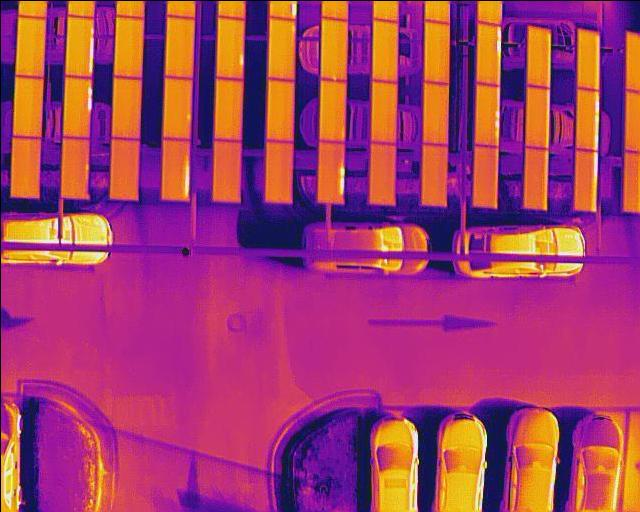Cell: (214, 17, 242, 80)
No-Anomaly: (210, 140, 240, 202), (10, 136, 40, 197), (265, 78, 294, 141), (108, 139, 138, 199), (111, 76, 140, 138), (113, 15, 142, 77), (264, 140, 292, 202), (214, 78, 242, 140), (163, 77, 191, 139), (59, 138, 88, 197), (12, 76, 41, 135), (163, 16, 191, 77), (267, 17, 294, 80), (318, 78, 344, 143), (367, 143, 394, 205), (16, 15, 44, 74), (420, 143, 447, 204), (370, 80, 396, 143), (319, 17, 345, 80), (524, 84, 548, 151), (371, 18, 396, 82), (422, 82, 448, 143), (423, 22, 449, 83), (522, 146, 547, 209), (471, 145, 495, 208), (576, 29, 598, 89), (527, 26, 548, 88)
Unclassified: (61, 77, 91, 137), (65, 15, 93, 75), (316, 140, 343, 202), (160, 139, 188, 198), (473, 84, 498, 144), (475, 24, 499, 85), (575, 86, 598, 149), (574, 150, 597, 209)
